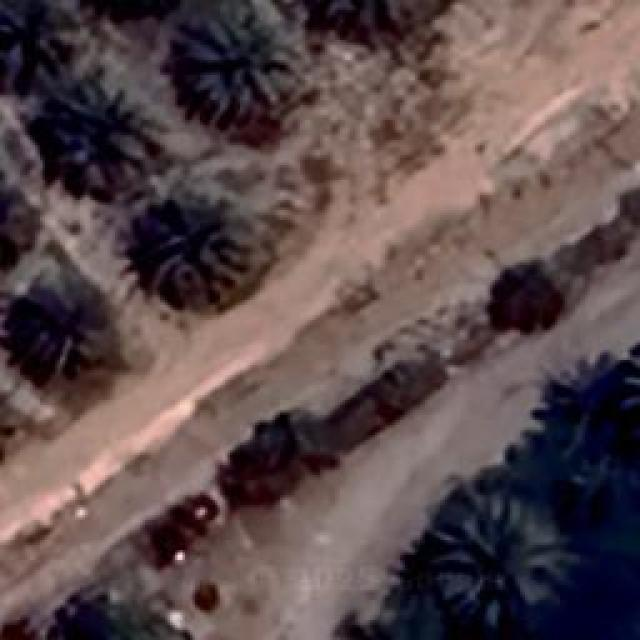PalmTree: (42, 14, 364, 88), (428, 495, 570, 623), (182, 2, 296, 122), (49, 74, 162, 188), (12, 281, 120, 394), (140, 202, 240, 302), (336, 611, 458, 640), (0, 166, 32, 269), (618, 333, 640, 448), (333, 620, 456, 640), (621, 332, 640, 442)
